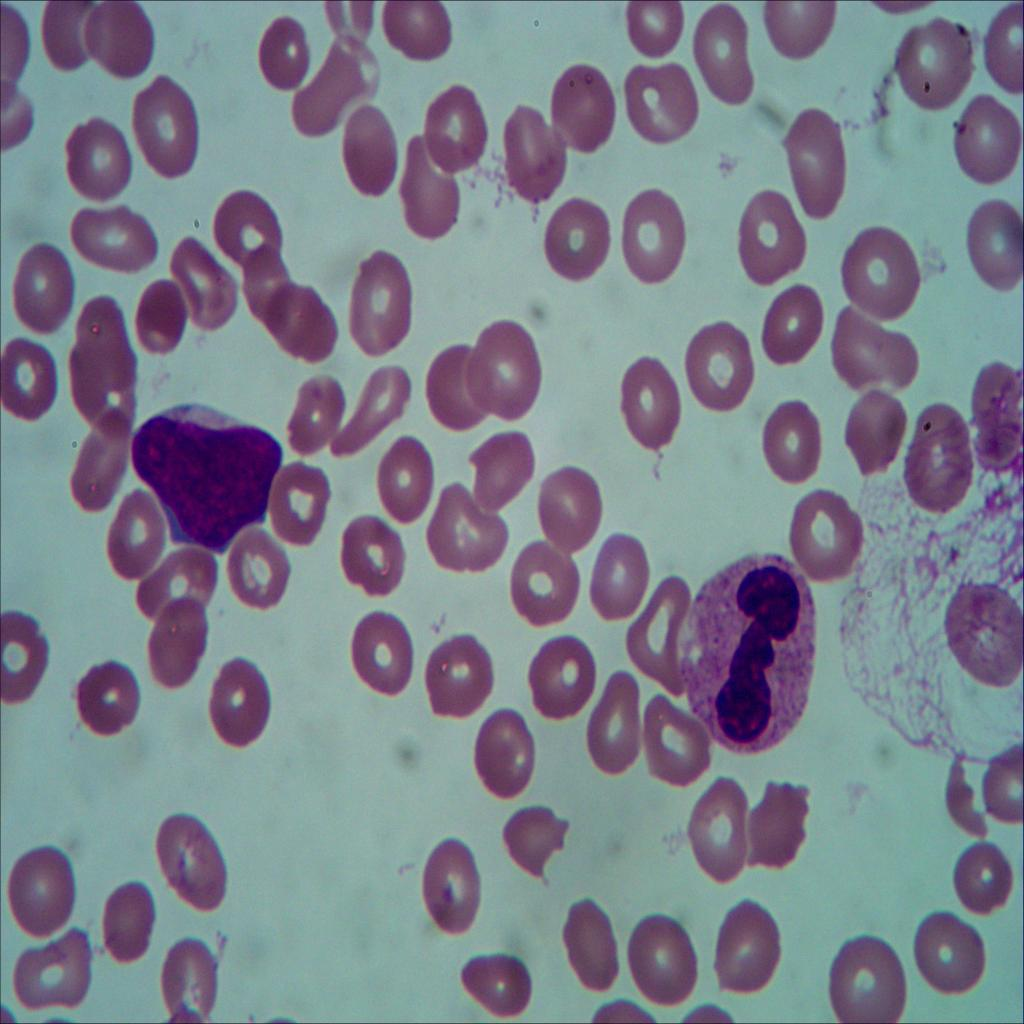Eritrosit: (284, 22, 383, 132), (890, 8, 984, 119), (66, 304, 145, 432), (824, 301, 931, 395), (899, 406, 982, 526), (784, 473, 872, 585), (460, 701, 547, 812), (840, 219, 930, 325), (130, 66, 206, 184), (470, 310, 546, 428), (688, 4, 770, 112), (949, 584, 1024, 702), (617, 907, 707, 1005), (622, 577, 701, 688), (728, 189, 813, 292), (418, 482, 516, 570), (153, 812, 238, 913), (196, 650, 275, 756), (415, 838, 494, 944), (942, 587, 1024, 688), (613, 183, 692, 287), (676, 320, 760, 417), (623, 60, 706, 156), (706, 906, 788, 1002), (51, 117, 142, 203), (334, 366, 420, 456), (783, 108, 850, 223), (962, 362, 1024, 484), (90, 866, 160, 974), (345, 248, 415, 356), (828, 932, 910, 1024), (510, 535, 588, 631), (448, 940, 539, 1022), (684, 776, 754, 882), (497, 103, 569, 206), (529, 636, 609, 728), (538, 190, 616, 284), (8, 936, 95, 1020), (66, 202, 162, 278), (909, 908, 988, 1000), (70, 662, 150, 752), (94, 487, 172, 579), (256, 458, 332, 552), (640, 698, 722, 785), (393, 135, 461, 239), (840, 381, 908, 485), (528, 469, 613, 552), (69, 410, 134, 516), (740, 785, 814, 878), (206, 186, 282, 276), (8, 844, 84, 932), (560, 893, 626, 994), (624, 349, 686, 454), (423, 336, 490, 433), (586, 682, 654, 777), (153, 937, 227, 1024), (550, 60, 617, 156), (422, 84, 488, 181), (348, 612, 425, 695), (948, 102, 1024, 186), (338, 510, 412, 596), (765, 392, 832, 486), (503, 801, 579, 883), (460, 430, 540, 507), (340, 100, 399, 204), (170, 244, 237, 335), (420, 648, 502, 722), (268, 282, 341, 365), (77, 2, 161, 74), (223, 536, 297, 616), (370, 442, 444, 522), (962, 192, 1022, 289), (240, 243, 306, 331), (764, 284, 830, 372), (14, 244, 76, 336), (0, 343, 64, 430), (139, 603, 208, 683), (586, 541, 657, 618), (283, 371, 343, 462), (0, 605, 48, 715), (374, 0, 459, 62), (138, 549, 215, 615), (35, 0, 103, 73), (948, 841, 1014, 915), (258, 14, 314, 96), (974, 742, 1024, 831), (616, 0, 689, 60), (134, 282, 190, 360)
Limfoblast: (124, 397, 282, 563)
Neutrofil: (672, 554, 819, 754)
